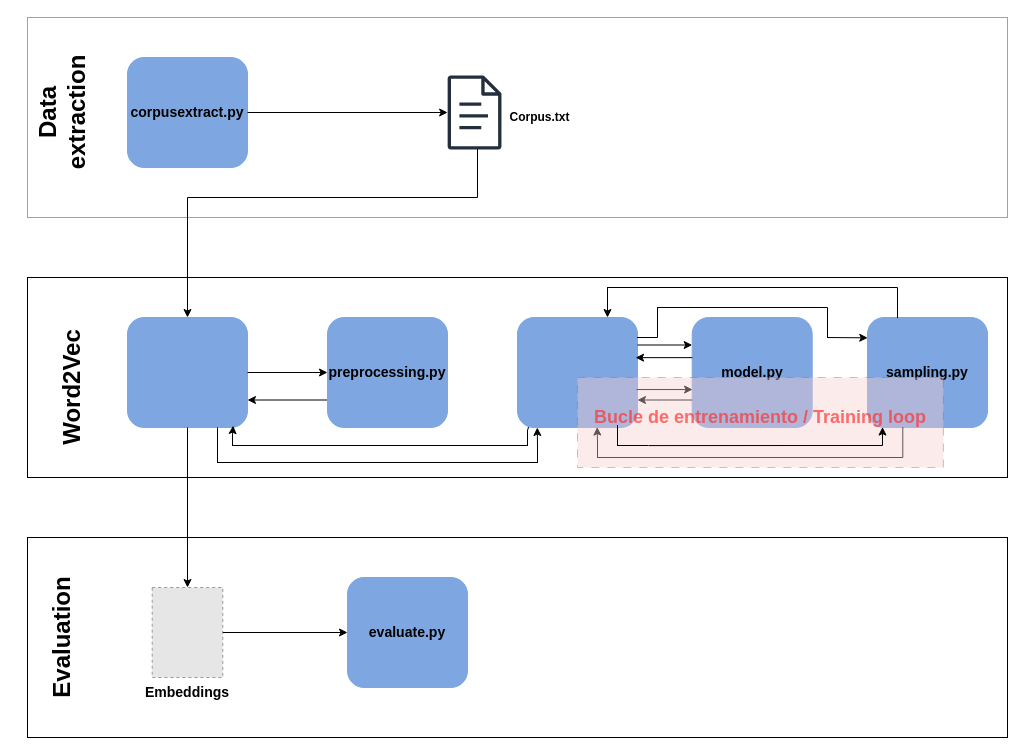
Image size: 1025x755. Some labels were removed from this diagram. Grey dashed boxes stand in for pictures. Each missing label, with the centre of its shape:
"main.py" belongs at (x=187, y=372).
"train.py" belongs at (x=577, y=372).
